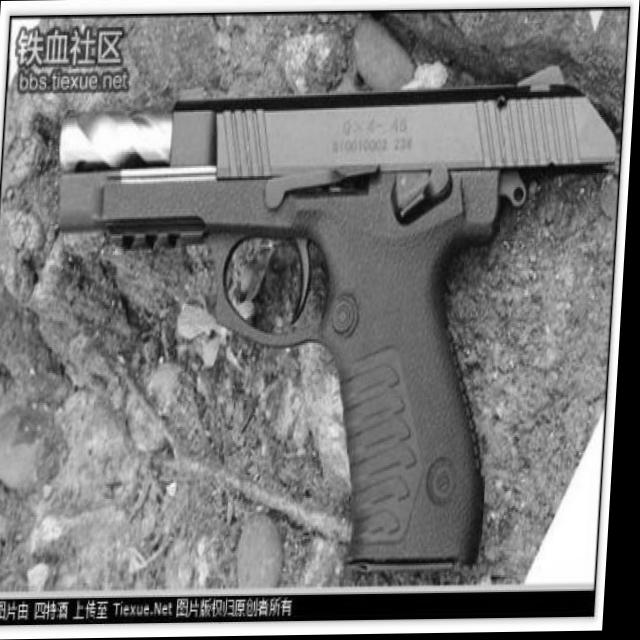handgun: (18, 80, 624, 597)
